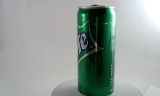sprite: (71, 4, 108, 95)
